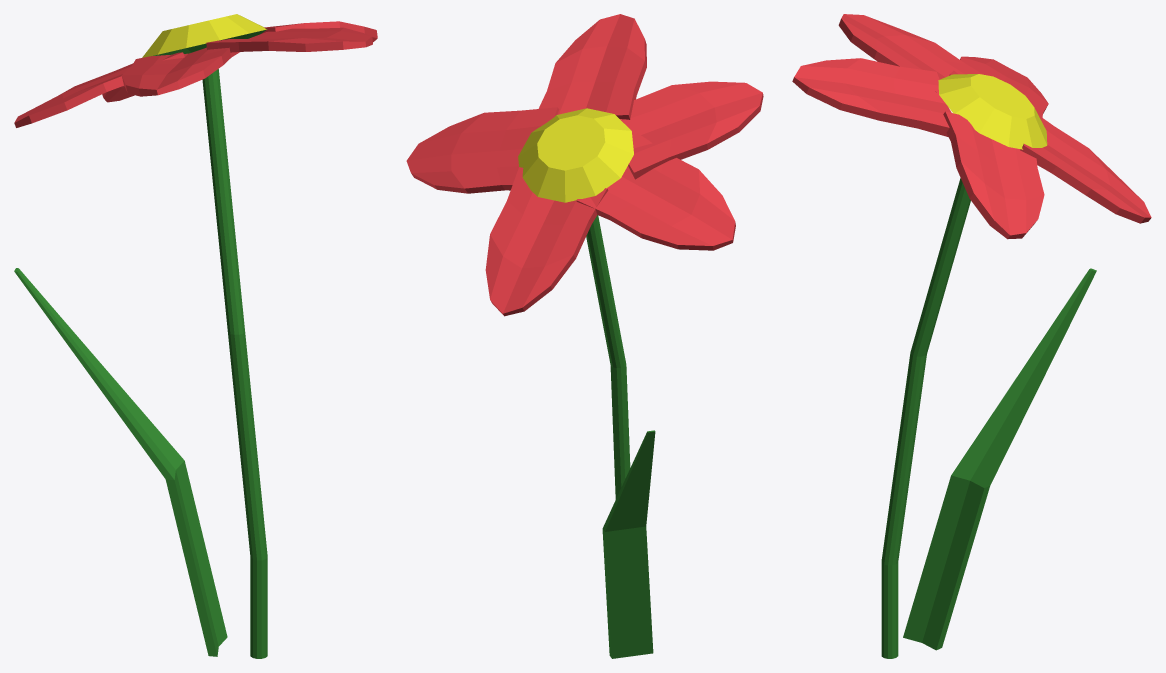
Rendered from Flower2.3.fbx.
3 renders of one model, left to right at view 1: azimuth 30°, elevation 25°; view 2: azimuth 150°, elevation 25°; view 3: azimuth 270°, elevation 25°, orthographic. The views are drawn at different scales.
Visible parts, largest first — view 1: Flower2.3; view 2: Flower2.3; view 3: Flower2.3.
Part boxes in pixels (<box>): Flower2.3: <box>14,14,377,658</box>; Flower2.3: <box>406,14,763,658</box>; Flower2.3: <box>792,14,1151,658</box>.
Size of the model in its own units: 13.94 by 23.74 by 12.75.
